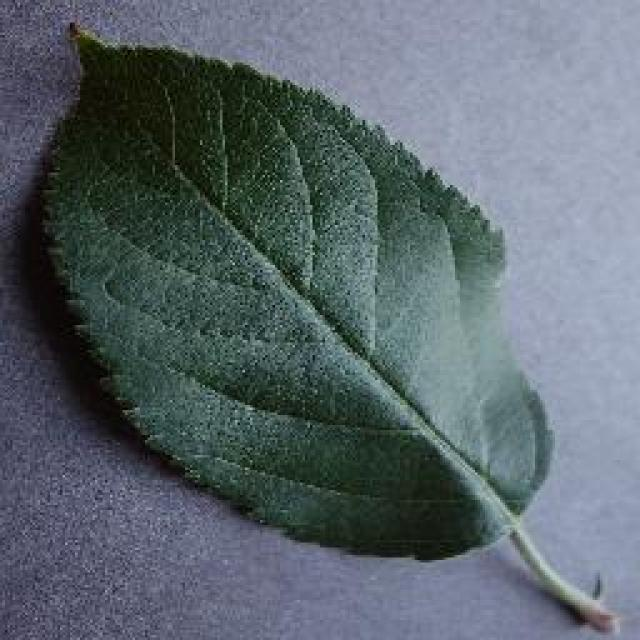apple healthy: (32, 17, 618, 635)
